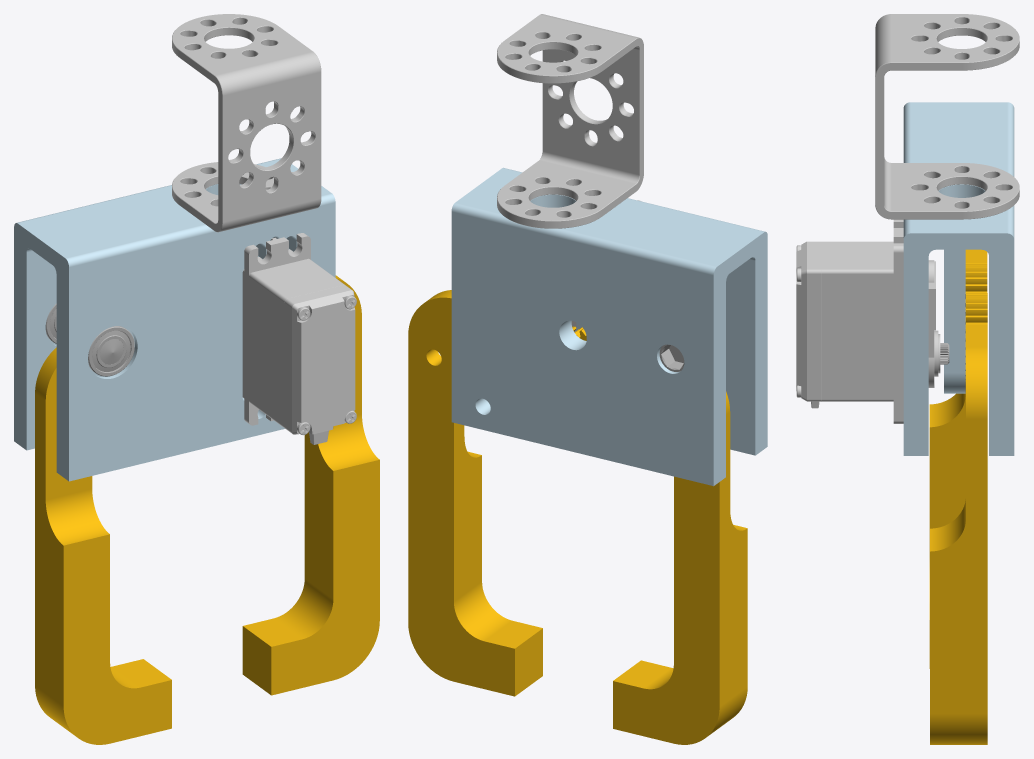
File: FinalAssembly_2V2.gltf
3 views of the same model, side by side, from view 1: azimuth 30°, elevation 25°; view 2: azimuth 150°, elevation 25°; view 3: azimuth 270°, elevation 25° (orthographic). The views are drawn at different scales.
Visible parts, largest first — view 1: Part 1, 2305Series Brass, MOD 0.8, Servo Gear (25 Tooth Spline, 40 T (×2), 1141 Series Round-End Steel U-Bracket 1141-0002-0001, Body, outer race; view 2: Part 1, 2305Series Brass, MOD 0.8, Servo Gear (25 Tooth Spline, 40 T (×2), 1141 Series Round-End Steel U-Bracket 1141-0002-0001; view 3: Part 1, 2305Series Brass, MOD 0.8, Servo Gear (25 Tooth Spline, 40 T (×2), Body, 1141 Series Round-End Steel U-Bracket 1141-0002-0001.
Part boxes in pixels (left/top/right/bottom): Part 1: left=14, top=158, right=335, bottom=481; 2305Series Brass, MOD 0.8, Servo Gear (25 Tooth Spline, 40 T (×2): left=35, top=275, right=379, bottom=744; 1141 Series Round-End Steel U-Bracket 1141-0002-0001: left=172, top=14, right=321, bottom=232; Body: left=242, top=233, right=356, bottom=444; outer race: left=88, top=326, right=134, bottom=376; Part 1: left=451, top=167, right=767, bottom=486; 2305Series Brass, MOD 0.8, Servo Gear (25 Tooth Spline, 40 T (×2): left=408, top=290, right=747, bottom=744; 1141 Series Round-End Steel U-Bracket 1141-0002-0001: left=497, top=14, right=643, bottom=228; Part 1: left=903, top=102, right=1014, bottom=455; 2305Series Brass, MOD 0.8, Servo Gear (25 Tooth Spline, 40 T (×2): left=929, top=249, right=987, bottom=744; Body: left=796, top=219, right=940, bottom=423; 1141 Series Round-End Steel U-Bracket 1141-0002-0001: left=875, top=14, right=1019, bottom=219.
Bounding box in the file's own units: 0.1045 × 0.2038 × 0.0619.
